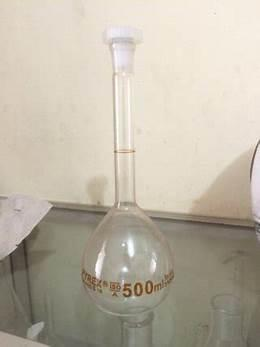Volumetric flask: (75, 18, 180, 321)
